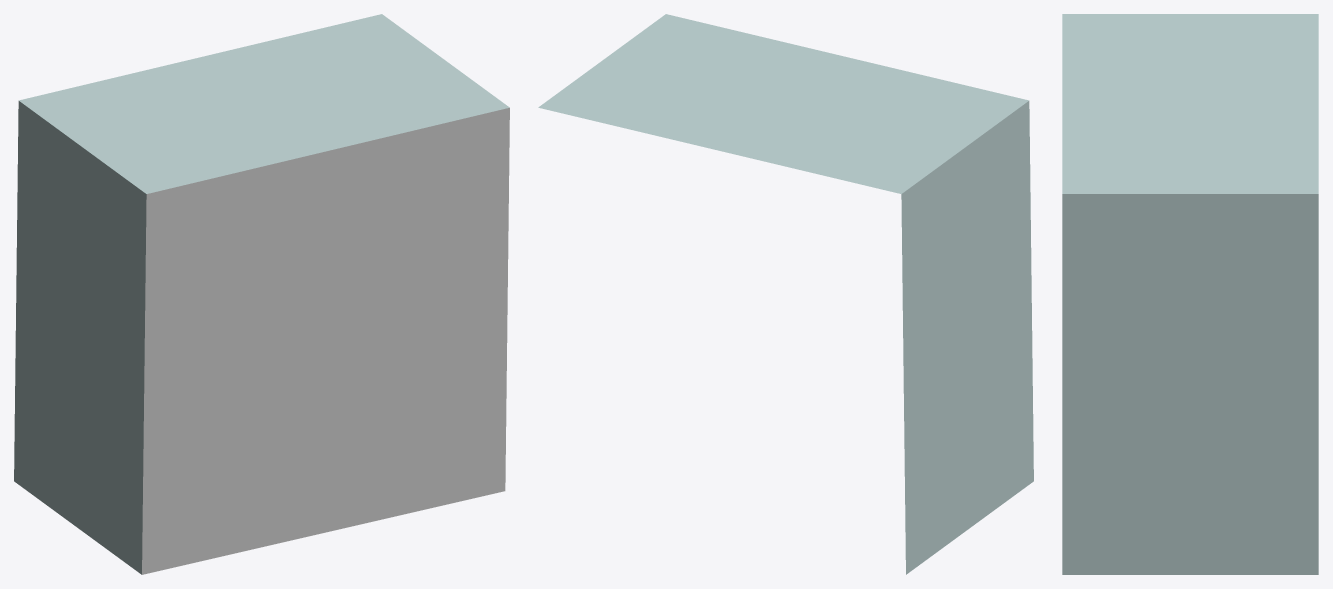
The picture shows the model from 3 angles, left to right: view 1: azimuth 30°, elevation 25°; view 2: azimuth 150°, elevation 25°; view 3: azimuth 270°, elevation 25°; orthographic projection.
Parts seen in each view (by area): view 1: 0_2_1_0_2_1_1_0_2; view 2: 0_2_1_0_2_1_1_0_2; view 3: 0_2_1_0_2_1_1_0_2.
Part boxes in pixels (x1=…): 0_2_1_0_2_1_1_0_2: x1=14, y1=14, x2=509, y2=574; 0_2_1_0_2_1_1_0_2: x1=538, y1=14, x2=1033, y2=574; 0_2_1_0_2_1_1_0_2: x1=1062, y1=14, x2=1318, y2=574.
Bounding box in the file's own units: 4.98 × 4.97 × 3.
